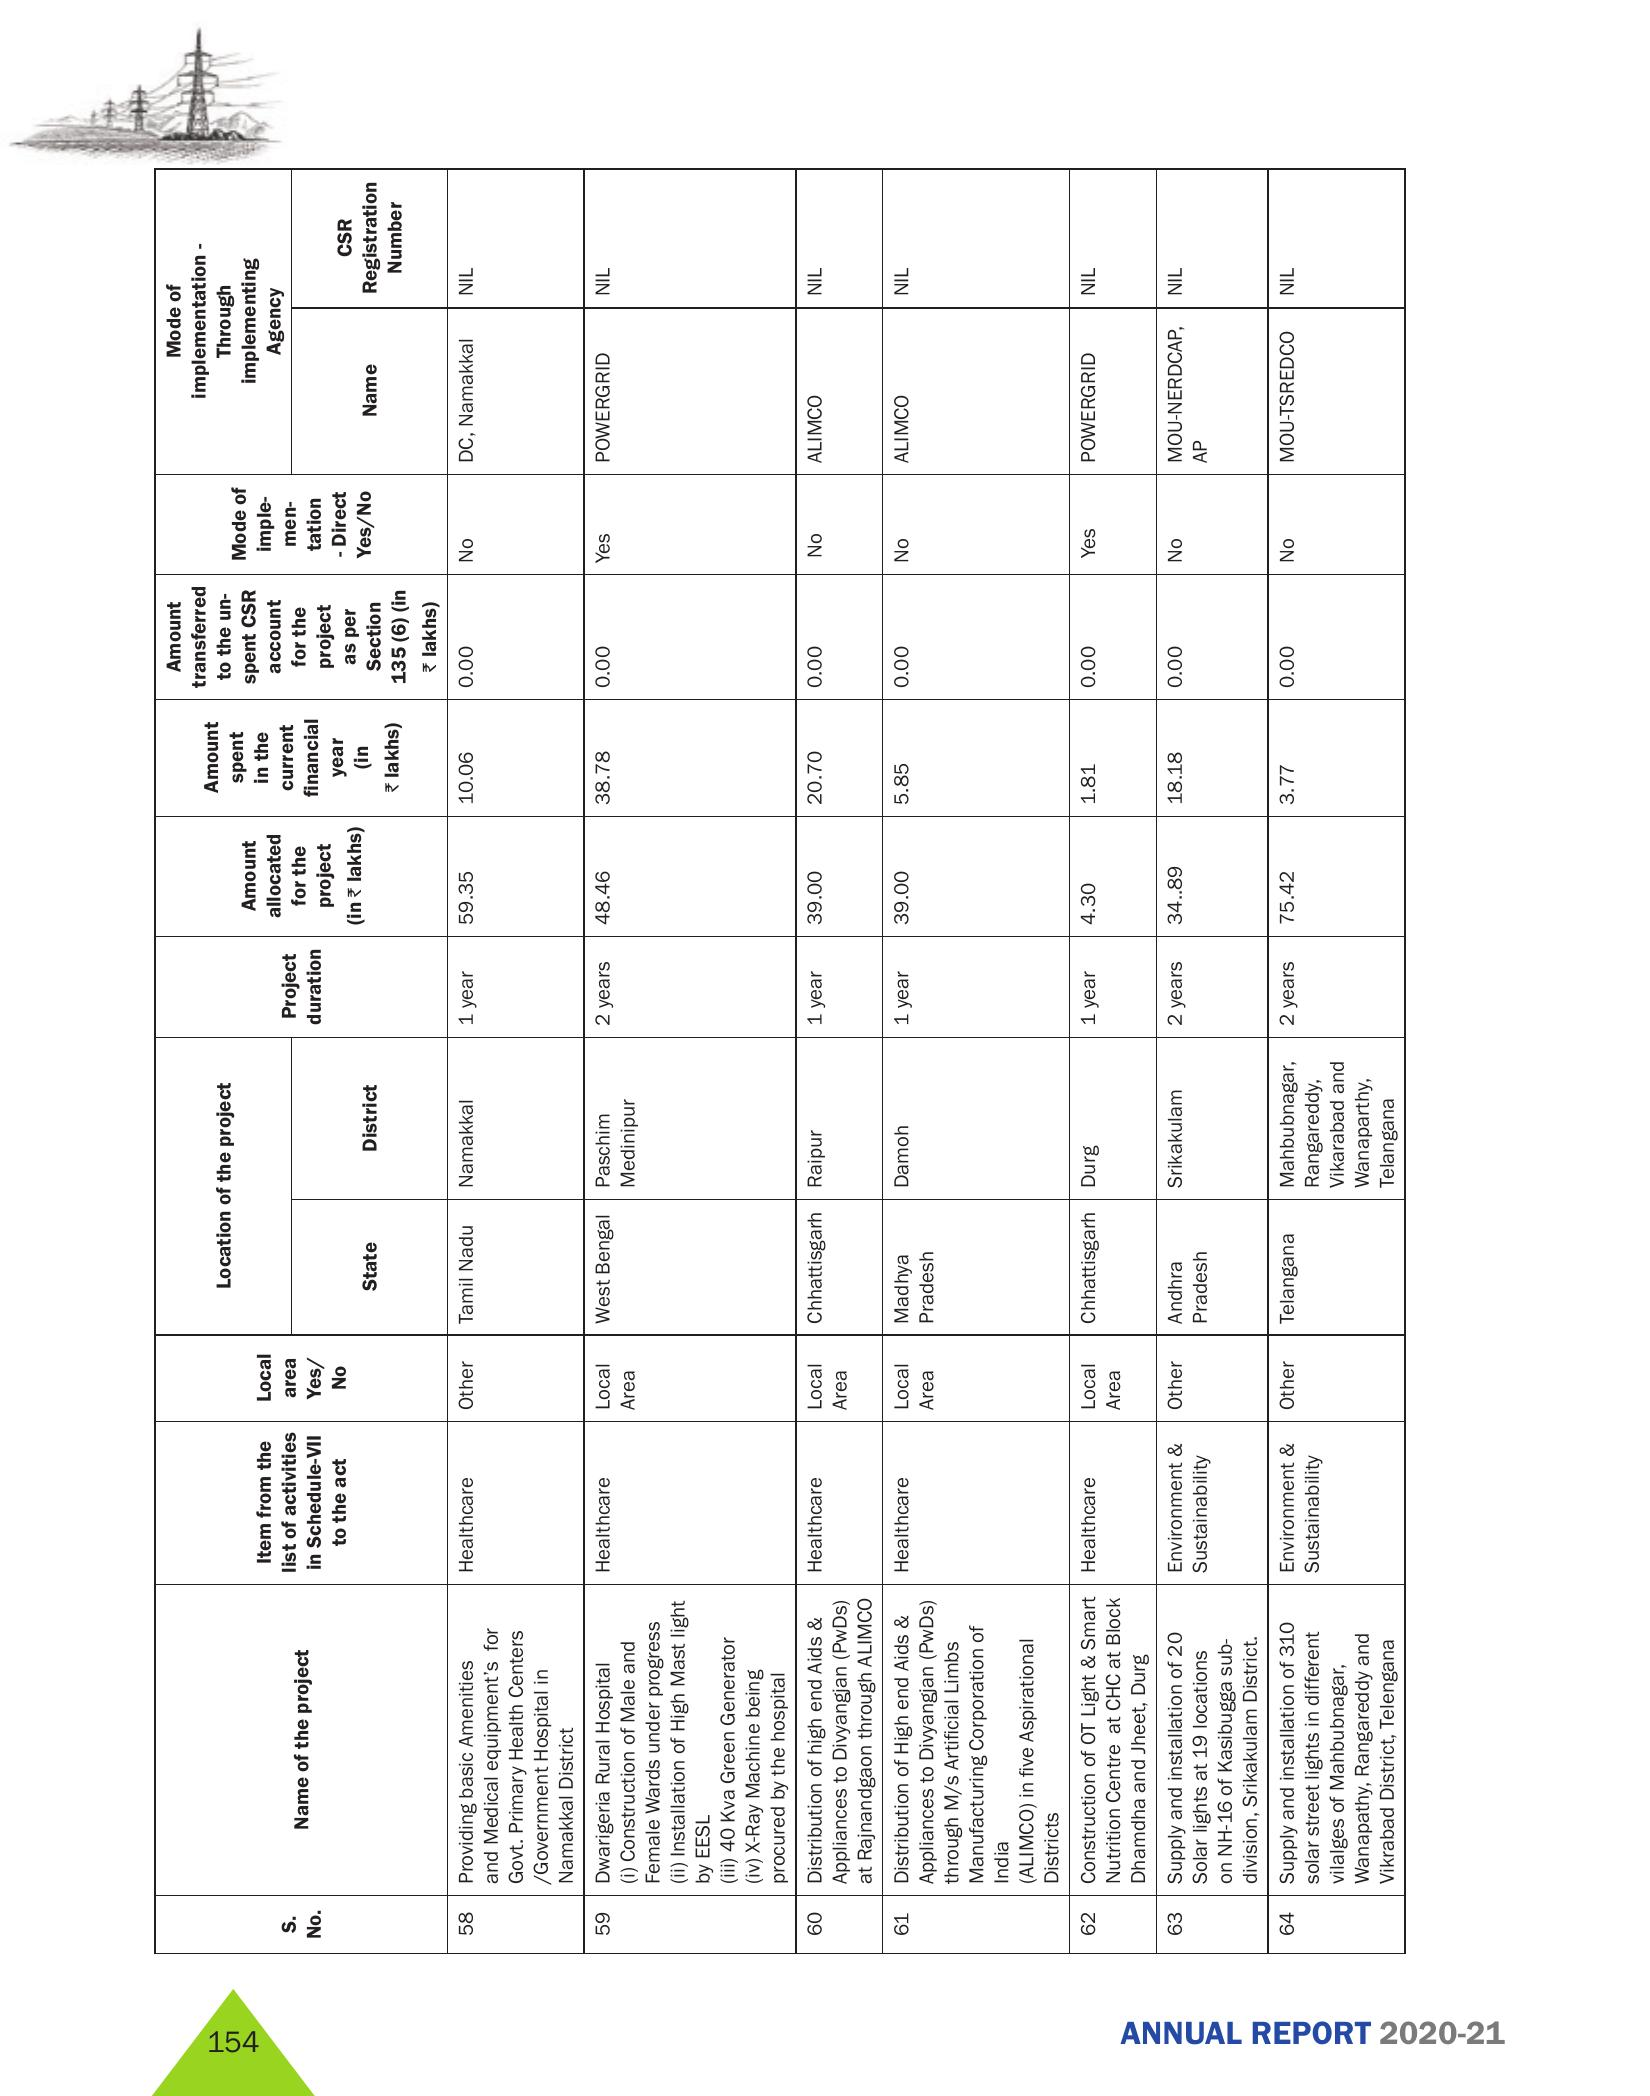Footer: (0, 1979, 1650, 2096)
Header: (0, 0, 1650, 168)
Table: (129, 168, 1425, 1979)
